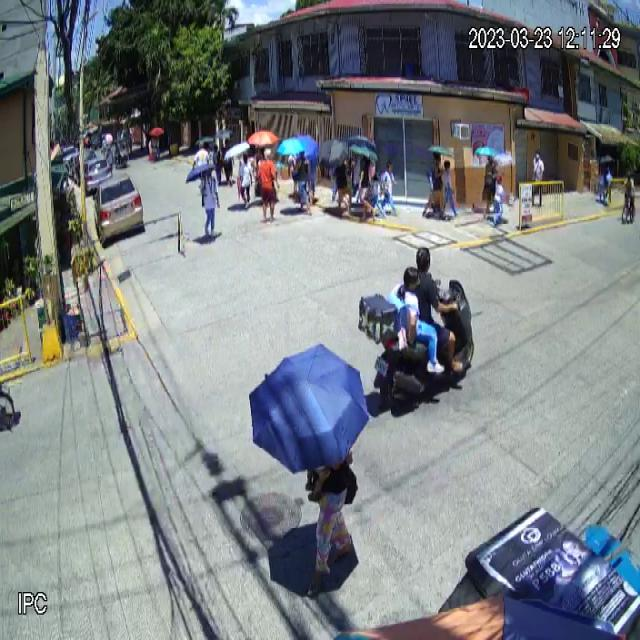Car: (92, 171, 144, 241)
Motorcycle: (357, 276, 474, 411)
